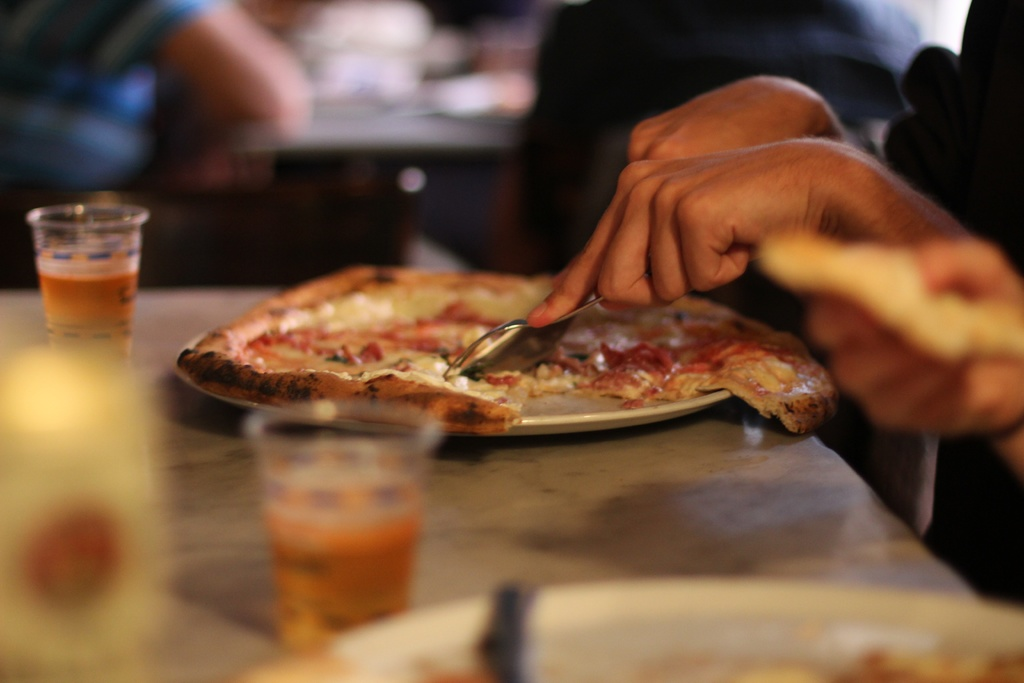Pizza: (158, 251, 857, 442)
